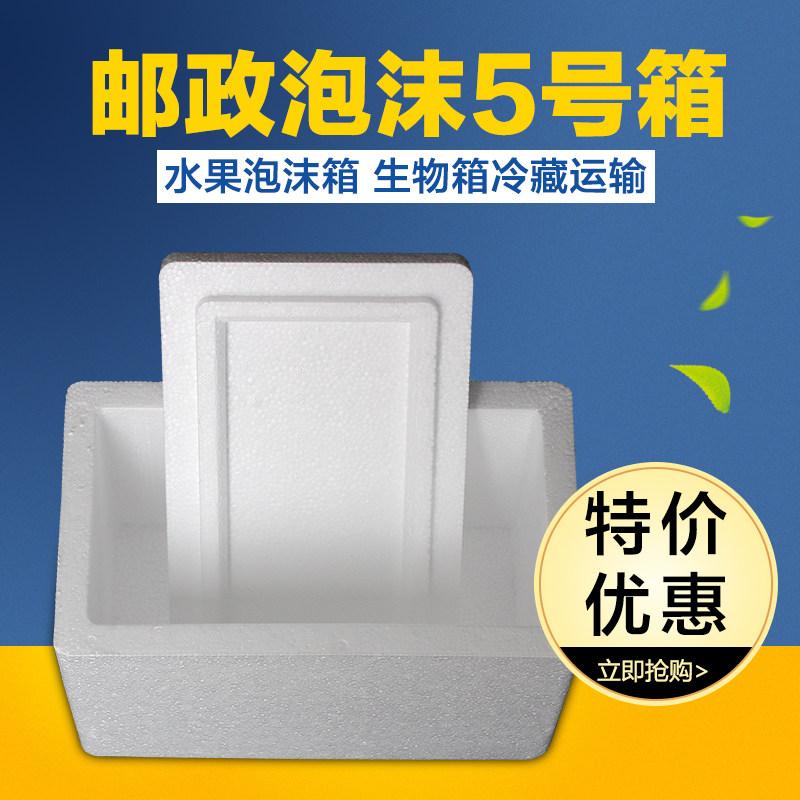Boxes: (54, 255, 575, 758)
